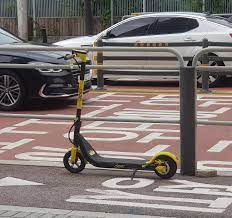kick_board: (58, 50, 177, 178)
kick_body: (98, 159, 147, 170)
kick_handler: (59, 49, 88, 61)
kick_neck: (72, 64, 86, 141)
kick_wheel: (154, 152, 179, 177), (63, 150, 86, 172)
